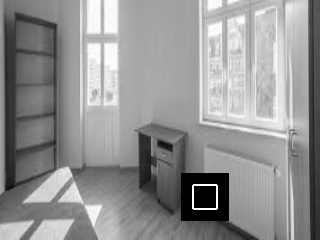square: (181, 173, 229, 221)
